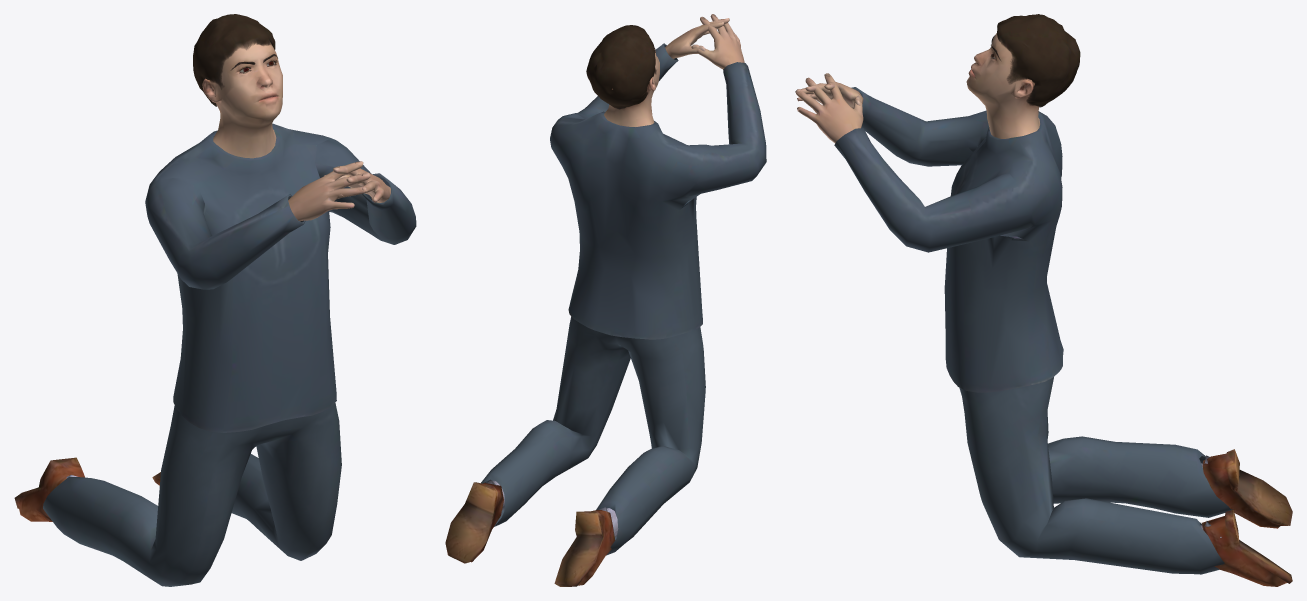
The model's file is mq-beggar.glb.
3 views of the same model, side by side, from view 1: azimuth 30°, elevation 25°; view 2: azimuth 150°, elevation 25°; view 3: azimuth 270°, elevation 25° (orthographic). The views are drawn at different scales.
Visible parts, largest first — view 1: MQ_beggar; view 2: MQ_beggar; view 3: MQ_beggar.
Part boxes in pixels (x1,y1,x2,y2): MQ_beggar: (14,14,416,586); MQ_beggar: (445,14,766,586); MQ_beggar: (795,14,1292,586).
Bounding box in the file's own units: 0.5427 × 1.33 × 1.12.
1 material, 1 textured.
